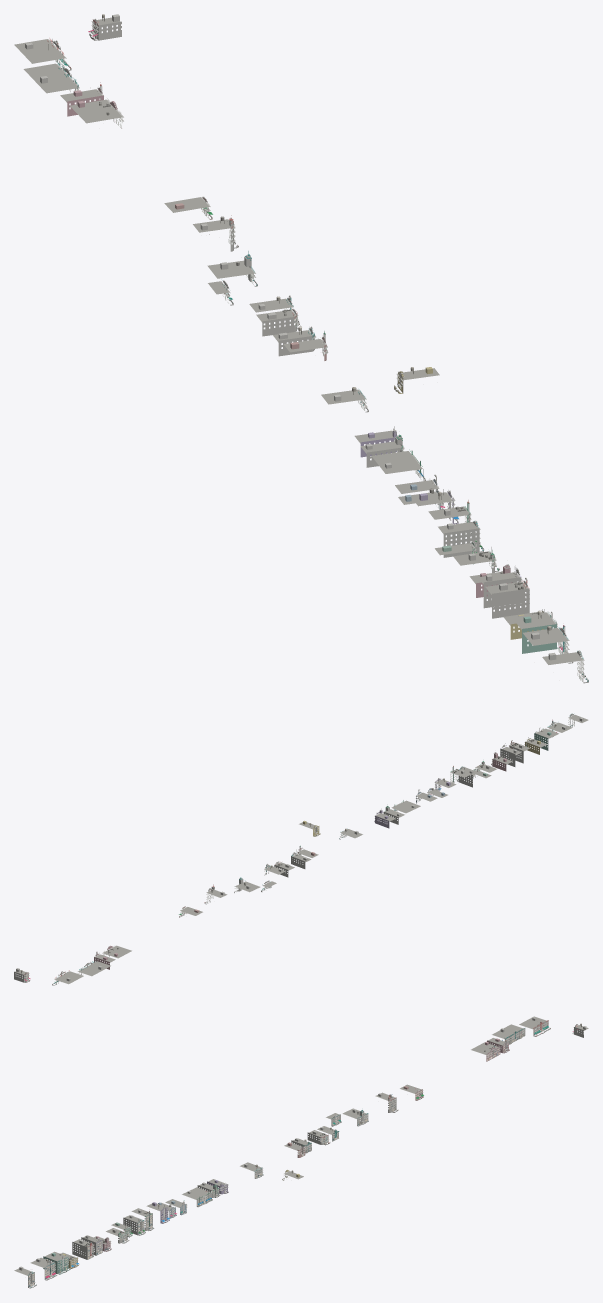
The model's file is district-buildings.glb.
The picture shows the model from 3 angles, top to bottom: view 1: azimuth 30°, elevation 25°; view 2: azimuth 150°, elevation 25°; view 3: azimuth 330°, elevation 25°; orthographic projection. The views are drawn at different scales.
Visible parts, largest first — view 1: OceanDrive_paint (×5); view 2: OceanDrive_paint (×5); view 3: OceanDrive_paint (×5).
Part boxes in pixels (x1,y1,x2,y2): OceanDrive_paint (×5): [14, 14, 588, 683]; OceanDrive_paint (×5): [14, 713, 588, 985]; OceanDrive_paint (×5): [14, 1016, 588, 1288].
Size of the model in its own units: 246 by 26.29 by 958.
